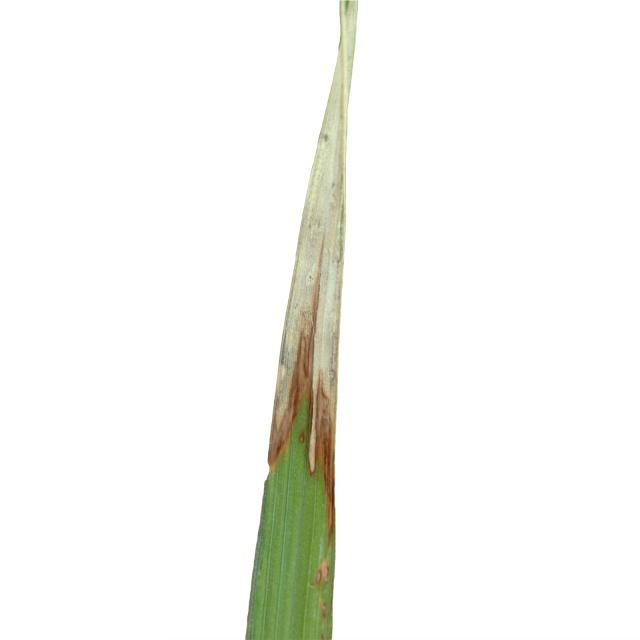Leaf scald: (191, 0, 548, 640)
